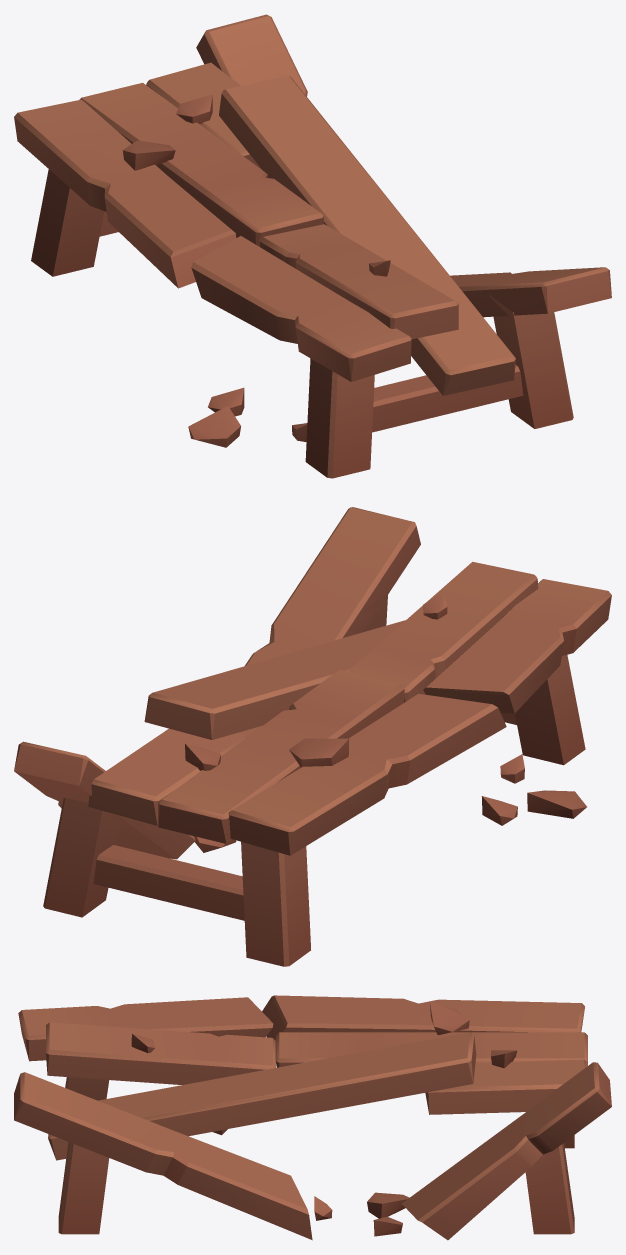
Rendered from table_long_broken.obj.
The picture shows the model from 3 angles, top to bottom: view 1: azimuth 30°, elevation 25°; view 2: azimuth 150°, elevation 25°; view 3: azimuth 270°, elevation 25°; orthographic projection. The views are drawn at different scales.
Visible parts, largest first — view 1: table_long_broken; view 2: table_long_broken; view 3: table_long_broken.
Boxes of the visible parts, x1,y1,x2,y2 form: table_long_broken: [14, 14, 611, 478]; table_long_broken: [14, 507, 611, 966]; table_long_broken: [14, 995, 611, 1240].
Bounding box in the file's own units: 2.41 × 1.27 × 4.4.
1 material, 1 textured.
